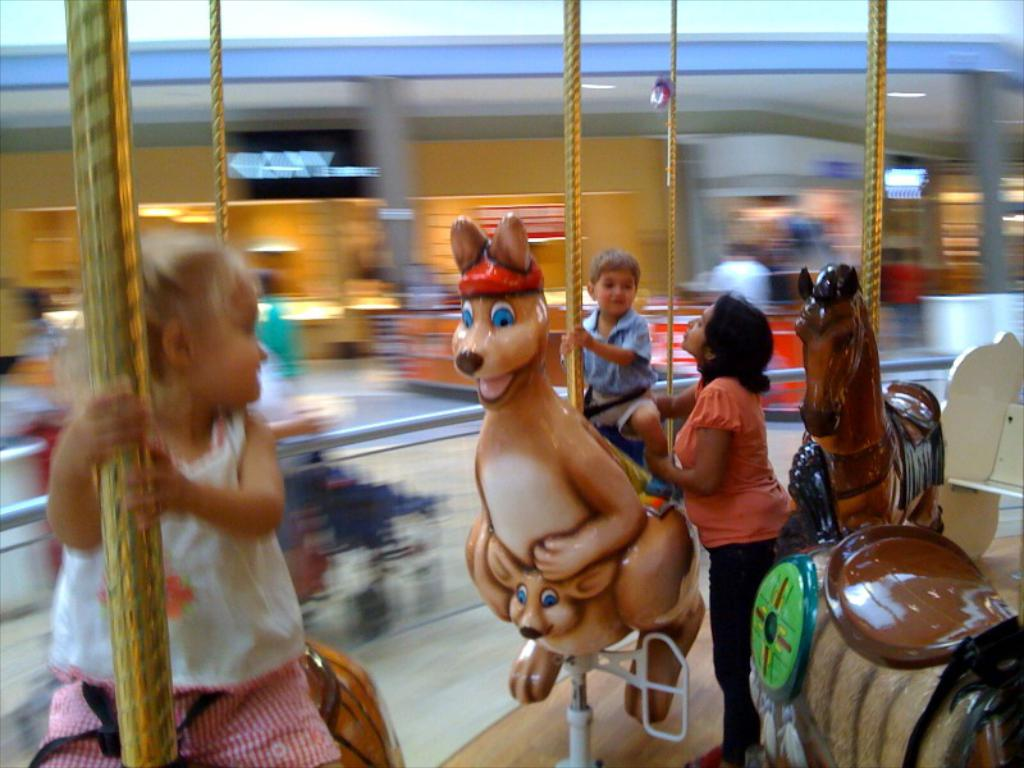Person: (558, 245, 670, 459)
